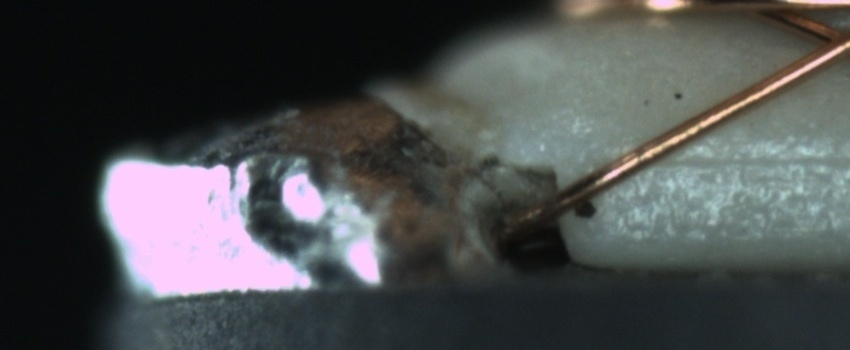CL: (796, 14, 848, 72)
DL: (640, 129, 850, 188)
